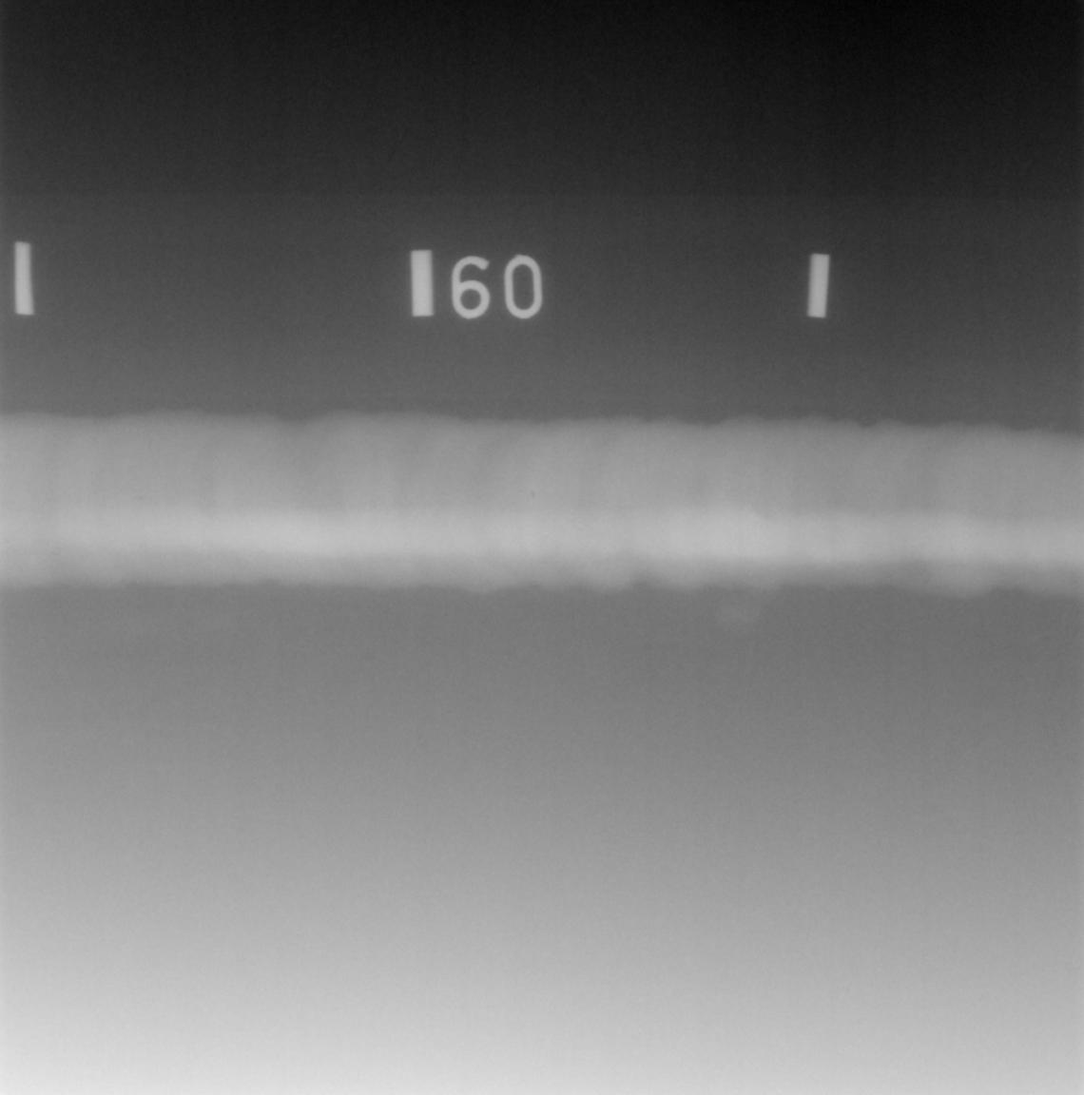Pore/Porosity: (531, 492, 535, 498), (871, 513, 875, 518), (373, 506, 376, 510)
